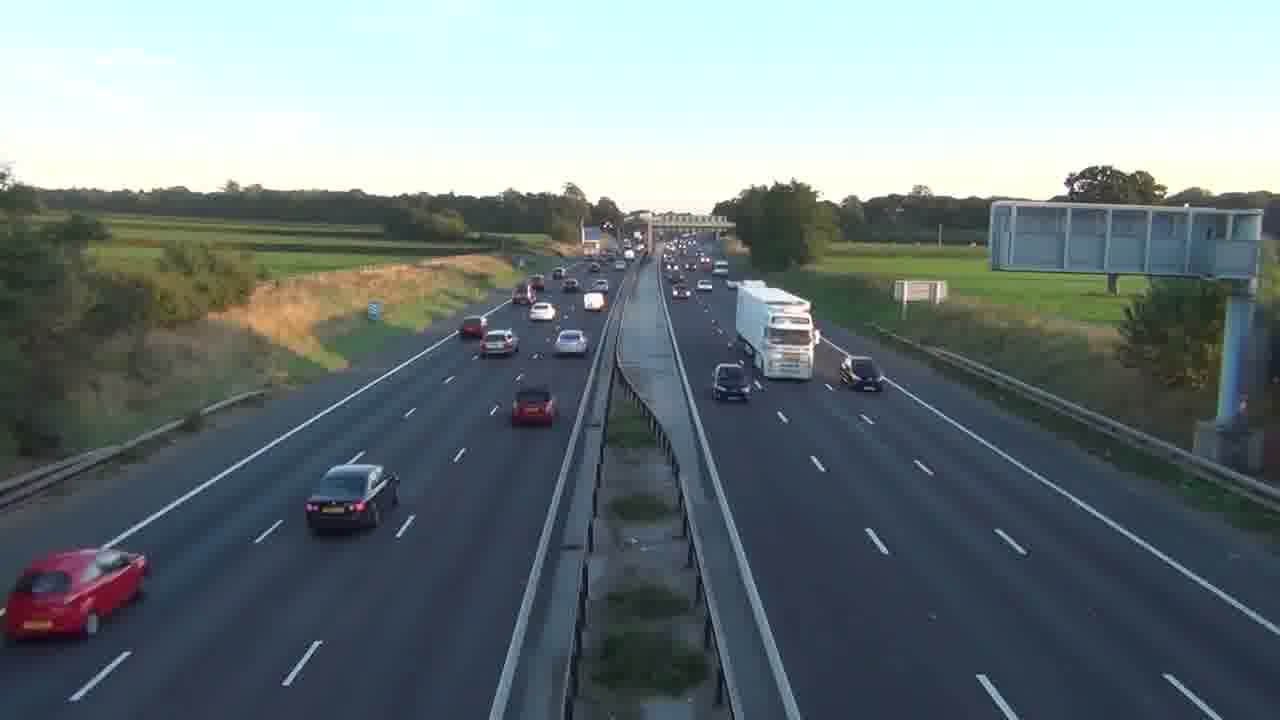car: (305, 461, 400, 534), (511, 384, 559, 427), (838, 353, 884, 392), (711, 362, 752, 402), (480, 329, 518, 357), (555, 328, 588, 357)
truck: (1, 547, 148, 643), (735, 281, 817, 383)
